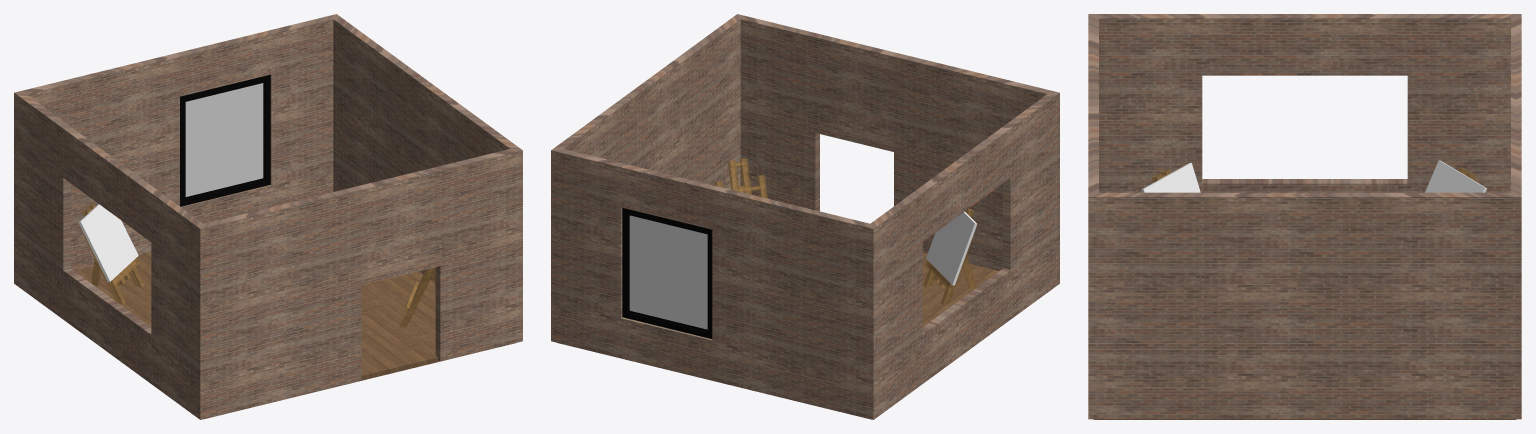
The model's file is vr_raum_neu.fbx.
The picture shows the model from 3 angles, left to right: view 1: azimuth 30°, elevation 25°; view 2: azimuth 150°, elevation 25°; view 3: azimuth 270°, elevation 25°; orthographic projection. The views are drawn at different scales.
Parts seen in each view (by area): view 1: Wand, Boden, Fenster, Fensterrahmen, Leinwand1, Leinwandhalter2, Leinwandhalter1; view 2: Wand, Fenster, Fensterrahmen, Boden, Leinwand1.001, Leinwandhalter2.001, Leinwandhalter1; view 3: Wand, Leinwand1, Leinwand1.001, Boden.
Part boxes in pixels (left/top/right/bottom): Wand: left=14, top=14, right=522, bottom=419; Boden: left=75, top=252, right=515, bottom=419; Fenster: left=185, top=83, right=263, bottom=196; Fensterrahmen: left=180, top=74, right=270, bottom=206; Leinwand1: left=78, top=204, right=138, bottom=282; Leinwandhalter2: left=81, top=203, right=144, bottom=304; Leinwandhalter1: left=400, top=267, right=435, bottom=327; Wand: left=551, top=14, right=1059, bottom=419; Fenster: left=629, top=215, right=707, bottom=329; Fensterrahmen: left=622, top=208, right=712, bottom=338; Boden: left=558, top=252, right=998, bottom=419; Leinwand1.001: left=926, top=211, right=977, bottom=285; Leinwandhalter2.001: left=923, top=208, right=976, bottom=305; Leinwandhalter1: left=715, top=158, right=767, bottom=198; Wand: left=1088, top=14, right=1521, bottom=419; Leinwand1: left=1425, top=160, right=1486, bottom=192; Leinwand1.001: left=1141, top=163, right=1200, bottom=192; Boden: left=1093, top=419, right=1516, bottom=419.
Bounding box in the file's own units: 8203 × 5056 × 8203.
